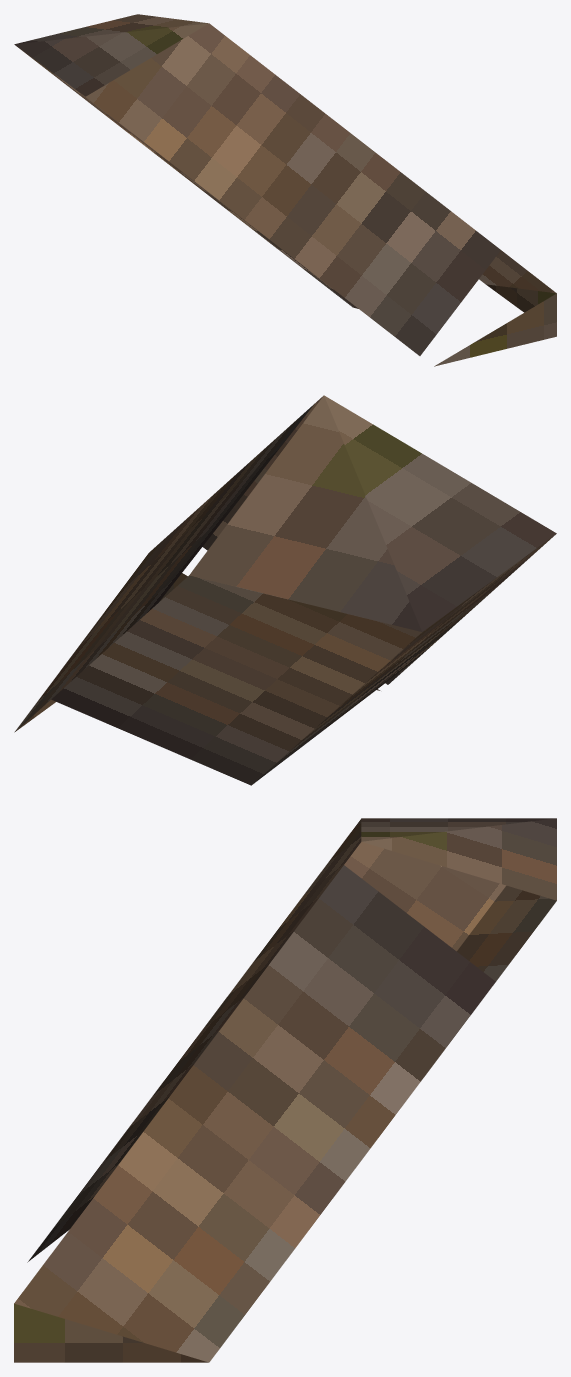
File: chestnut_branch_45_diagonal.obj
3 views of the same model, one above another, from view 1: azimuth 30°, elevation 25°; view 2: azimuth 150°, elevation 25°; view 3: azimuth 270°, elevation 25° (orthographic). The views are drawn at different scales.
Visible parts, largest first — view 1: cube; view 2: cube; view 3: cube.
Part boxes in pixels (<box>): cube: <box>14,14,556,366</box>; cube: <box>14,395,556,785</box>; cube: <box>14,818,556,1362</box>.
Bounding box in the file's own units: 1.56 × 1.19 × 1.56.
